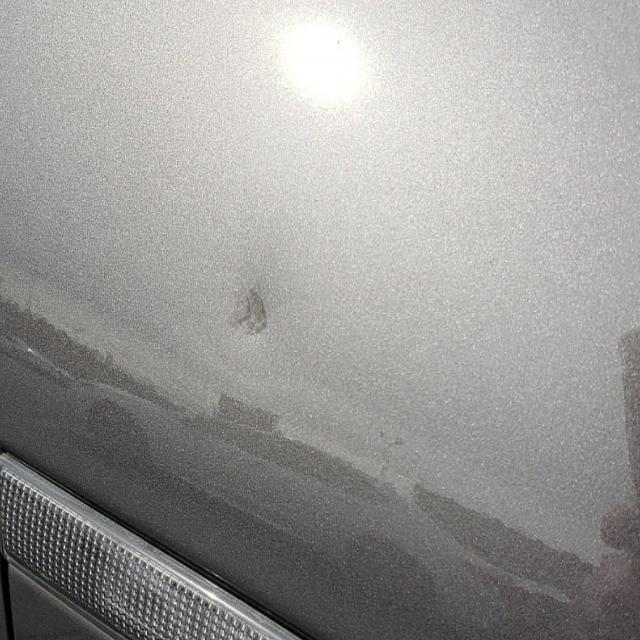dents: (217, 262, 290, 362)
